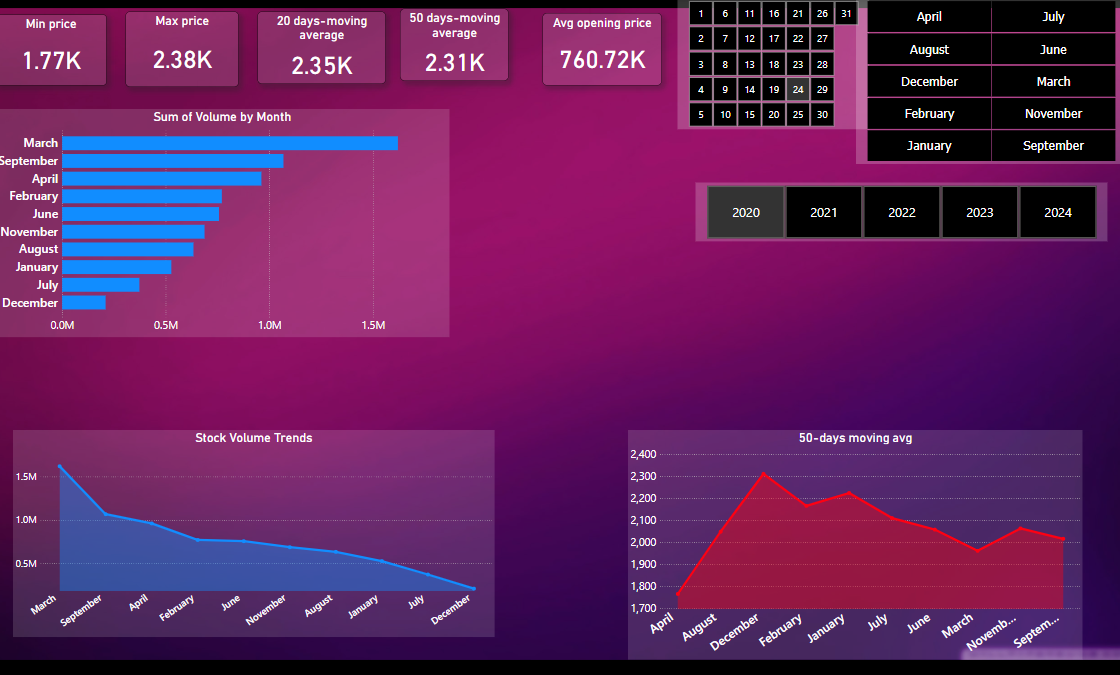

The dashboard page shown, as its layout file describes it:
{"tool":"powerbi","page":{"name":"Page 1","canvas":[2500,1500],"ordinal":0},"visuals":[{"type":"card","title":"Min price","fields":{"Values":["Min(HMC.Open)"]},"box":[0,36.7,246.7,156.7],"z":0},{"type":"card","title":"Max price","fields":{"Values":["Max(HMC.Close)"]},"box":[286.7,30,250,166.7],"z":1000},{"type":"card","title":"20 days-moving average ","fields":{"Values":["HMC.20-Day Moving Average"]},"box":[580,30,283.3,160],"z":2000},{"type":"card","title":"50 days-moving average ","fields":{"Values":["HMC.50-Day Moving Average"]},"box":[893.3,23.3,240,160],"z":3000},{"type":"card","title":"Avg opening price","fields":{"Values":["Avg(HMC.Volume)"]},"box":[1210,33.3,263.3,160],"z":4000},{"type":"slicer","fields":{"Values":["HMC.Day"]},"box":[1506.7,0,423.3,290],"z":5000},{"type":"slicer","fields":{"Values":["HMC.Month"]},"box":[1903.3,0,596.7,366.7],"z":6000},{"type":"slicer","fields":{"Values":["HMC.year"]},"box":[1546.7,406.7,910,130],"z":7000},{"type":"clusteredBarChart","fields":{"Y":["Sum(HMC.Volume)"],"Category":["HMC.Month"]},"box":[0,245.2,1004.1,503.7],"z":8000},{"type":"lineChart","title":"50-days moving avg","fields":{"Y":["HMC.50-Day Moving Average"],"Category":["HMC.Month"]},"box":[1398.4,954.4,1004.1,507],"z":9000},{"type":"lineChart","title":"Stock Volume Trends","fields":{"Y":["Sum(HMC.Volume)"],"Category":["HMC.Month"]},"box":[39.8,954.4,1063.7,457.3],"z":9002}]}

Visuals, with their boxes in screenshot pixels (x1, y1, x2, y2), scaled from the page's 2500x1500 canvas onto the 1120x675 screenshot:
"Min price" card: box=[0, 17, 111, 87]
"Max price" card: box=[128, 14, 240, 89]
"20 days-moving average " card: box=[260, 14, 387, 86]
"50 days-moving average " card: box=[400, 10, 508, 82]
"Avg opening price" card: box=[542, 15, 660, 87]
slicer - HMC.Day: box=[675, 0, 865, 130]
slicer - HMC.Month: box=[853, 0, 1119, 165]
slicer - HMC.year: box=[693, 183, 1101, 242]
clusteredBarChart - Sum(HMC.Volume) x HMC.Month: box=[0, 110, 450, 337]
"50-days moving avg" lineChart: box=[626, 429, 1076, 658]
"Stock Volume Trends" lineChart: box=[18, 429, 494, 635]
